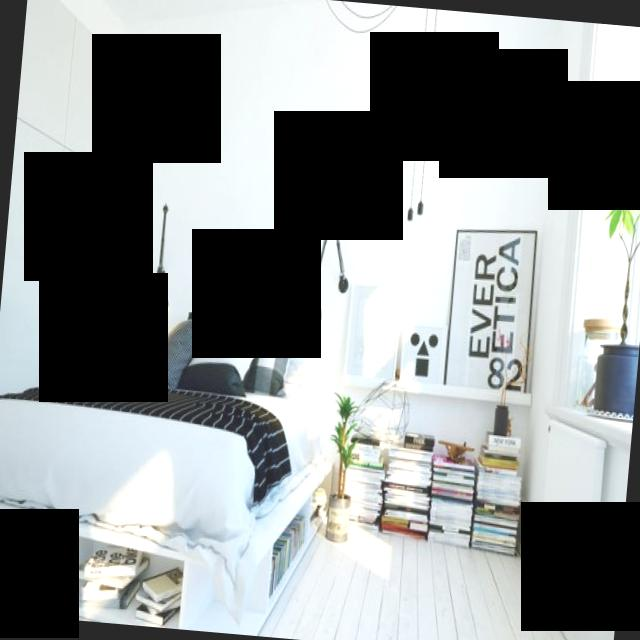modern bed: (0, 329, 339, 640)
